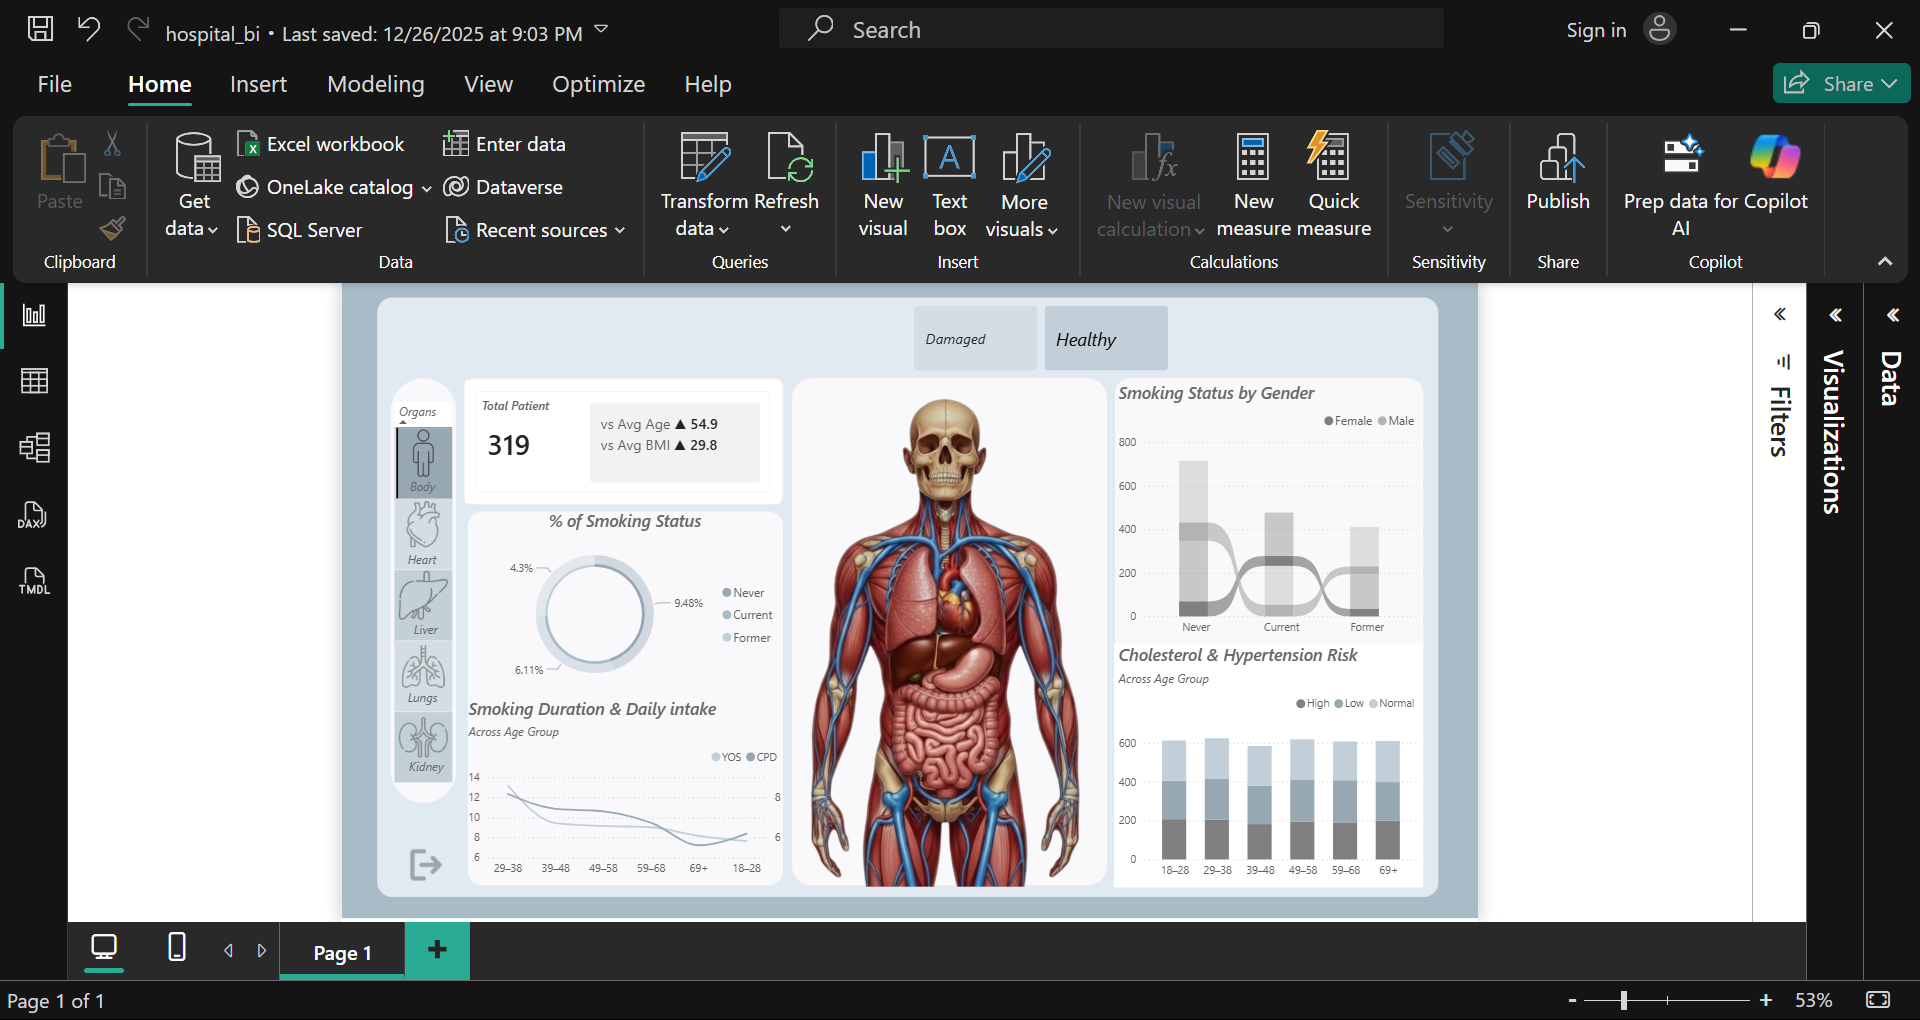

Layout of this report page (visuals, bound fields, positions):
{"tool":"powerbi","page":{"name":"Page 1","canvas":[1280,720],"ordinal":0},"visuals":[{"type":"cardVisual","fields":{"Data":["CountNonNull(health_dataset.Patient_ID)"]},"box":[134.2,104.1,365.7,148.1],"z":0},{"type":"textbox","box":[152.7,122.7,120.3,27.8],"z":1000},{"type":"advancedSlicerVisual","fields":{"Values":["condition.Organ_Condition"]},"box":[641.1,20.8,296.2,83.3],"z":2000},{"type":"tableEx","title":"Smoking Duration & Daily intake","fields":{"Values":["Organs.Icon_URL"]},"box":[55,128.6,71.4,439.3],"z":3000},{"type":"image","box":[499.9,104.9,363.2,574.8],"z":4000},{"type":"donutChart","title":"% of  Smoking Status","fields":{"Category":["health_dataset.Smoking_Status"],"Y":["CountNonNull(health_dataset.Smoking_Status)"]},"box":[138,254,362,212],"z":5000},{"type":"lineChart","title":"Smoking Duration & Daily intake","fields":{"Category":["health_dataset.Age Group"],"Y":["Avg(health_dataset.Years_of_Smoking)"],"Y2":["Avg(health_dataset.Cigarettes_Per_Day)"]},"box":[138,466,362,212],"z":6000},{"type":"ribbonChart","title":"Smoking Status by Gender","fields":{"Category":["health_dataset.Smoking_Status"],"Y":["CountNonNull(health_dataset.Patient_ID)"],"Series":["health_dataset.Gender"]},"box":[870,110,348,296],"z":7000},{"type":"columnChart","title":"Cholesterol & Hypertension Risk","fields":{"Category":["health_dataset.Age Group"],"Y":["Avg(health_dataset.Cholesterol_Level)"],"Series":["health_dataset.BP_Risk"]},"box":[870,406,348,274],"z":8000},{"type":"textbox","box":[66,216,52.8,27.8],"z":9000},{"type":"textbox","box":[70,298.6,44,29],"z":9001},{"type":"textbox","box":[55.7,375.7,78.6,32.9],"z":9002},{"type":"textbox","box":[66.2,452.5,52.5,28.8],"z":9003},{"type":"textbox","box":[60,530,72,28],"z":9004}]}

Visuals, with their boxes on the page's 1280x720 design canvas (x1, y1, x2, y2). These are canvas units, not pixel positions in the 1920x1020 screenshot, which may show the page scaled, cropped or inside an application window:
cardVisual - CountNonNull(health_dataset.Patient_ID): crop(134, 104, 500, 252)
textbox: crop(153, 123, 273, 150)
advancedSlicerVisual - condition.Organ_Condition: crop(641, 21, 937, 104)
"Smoking Duration & Daily intake" tableEx: crop(55, 129, 126, 568)
image: crop(500, 105, 863, 680)
"% of  Smoking Status" donutChart: crop(138, 254, 500, 466)
"Smoking Duration & Daily intake" lineChart: crop(138, 466, 500, 678)
"Smoking Status by Gender" ribbonChart: crop(870, 110, 1218, 406)
"Cholesterol & Hypertension Risk" columnChart: crop(870, 406, 1218, 680)
textbox: crop(66, 216, 119, 244)
textbox: crop(70, 299, 114, 328)
textbox: crop(56, 376, 134, 409)
textbox: crop(66, 452, 119, 481)
textbox: crop(60, 530, 132, 558)
